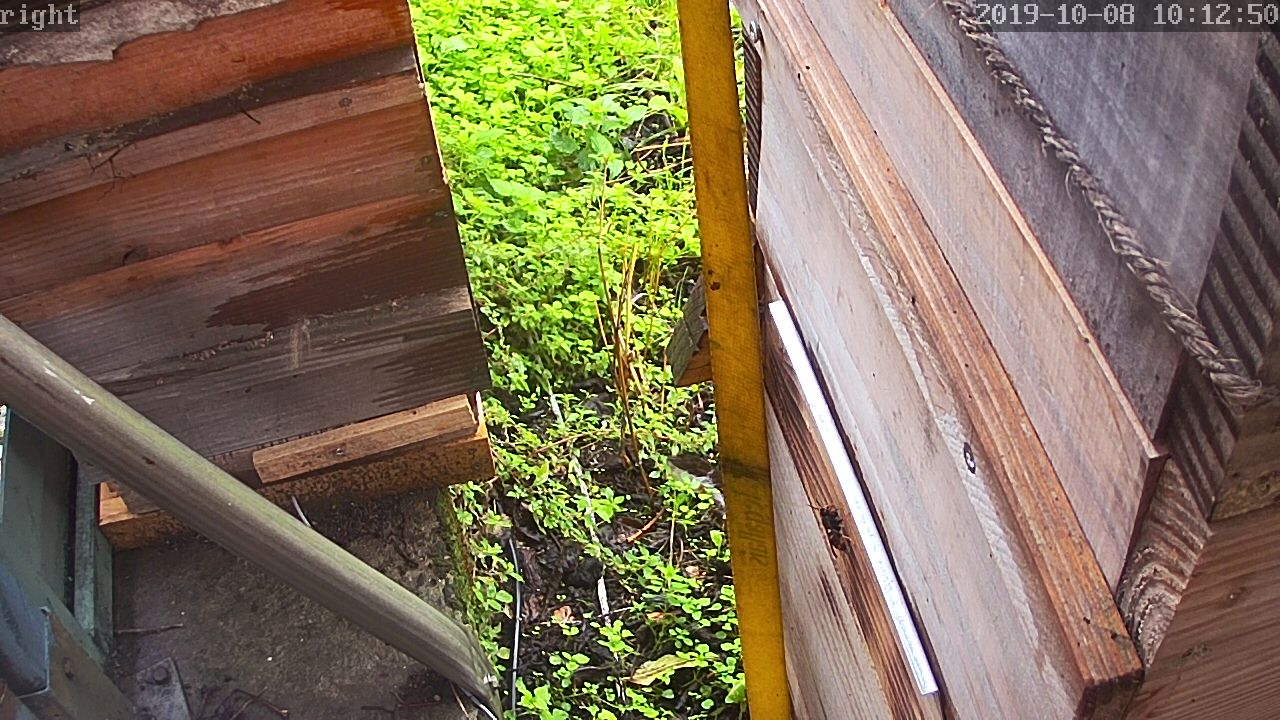hornet: (811, 502, 861, 557)
